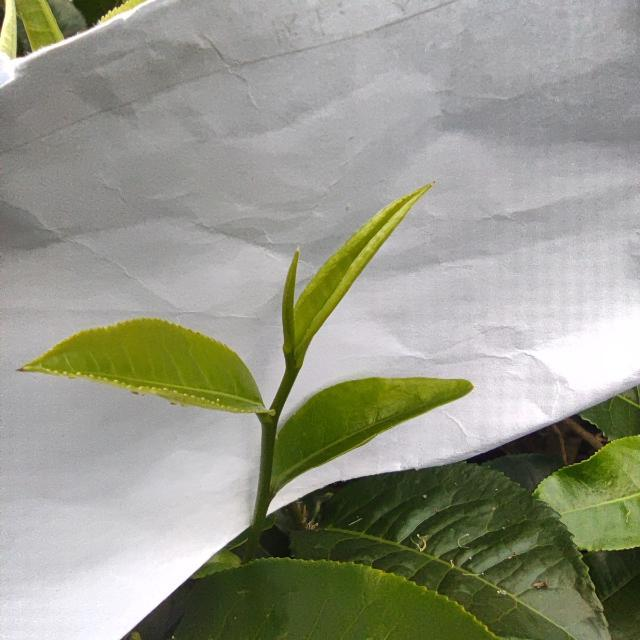Stem: (263, 424, 273, 473)
